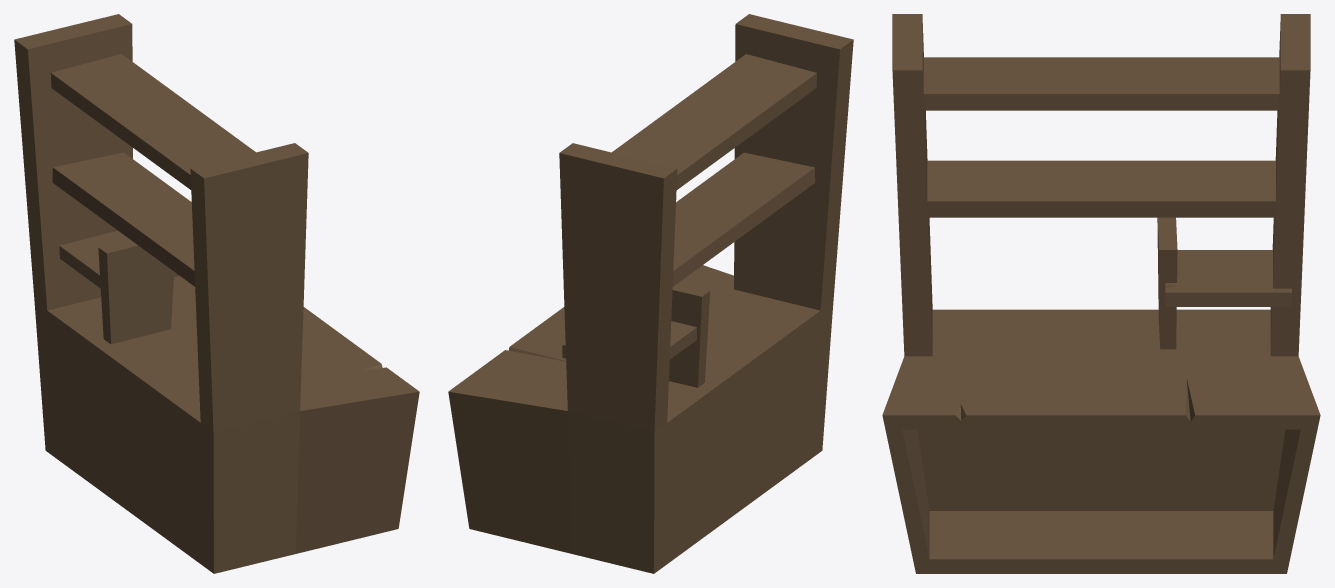
File: cabinet.glb
3 views of the same model, side by side, from view 1: azimuth 30°, elevation 25°; view 2: azimuth 150°, elevation 25°; view 3: azimuth 270°, elevation 25° (orthographic). The views are drawn at different scales.
Parts seen in each view (by area): view 1: cabinet; view 2: cabinet; view 3: cabinet.
Part boxes in pixels (left/top/right/bottom): cabinet: left=14, top=14, right=419, bottom=573; cabinet: left=448, top=14, right=853, bottom=573; cabinet: left=882, top=14, right=1320, bottom=573.
Bounding box in the file's own units: 0.8069 × 1.49 × 1.32.
1 material, 1 textured.
